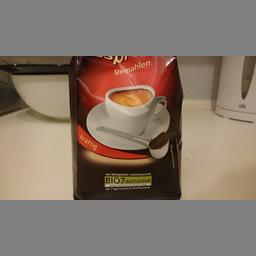coffee: (66, 55, 183, 199)
